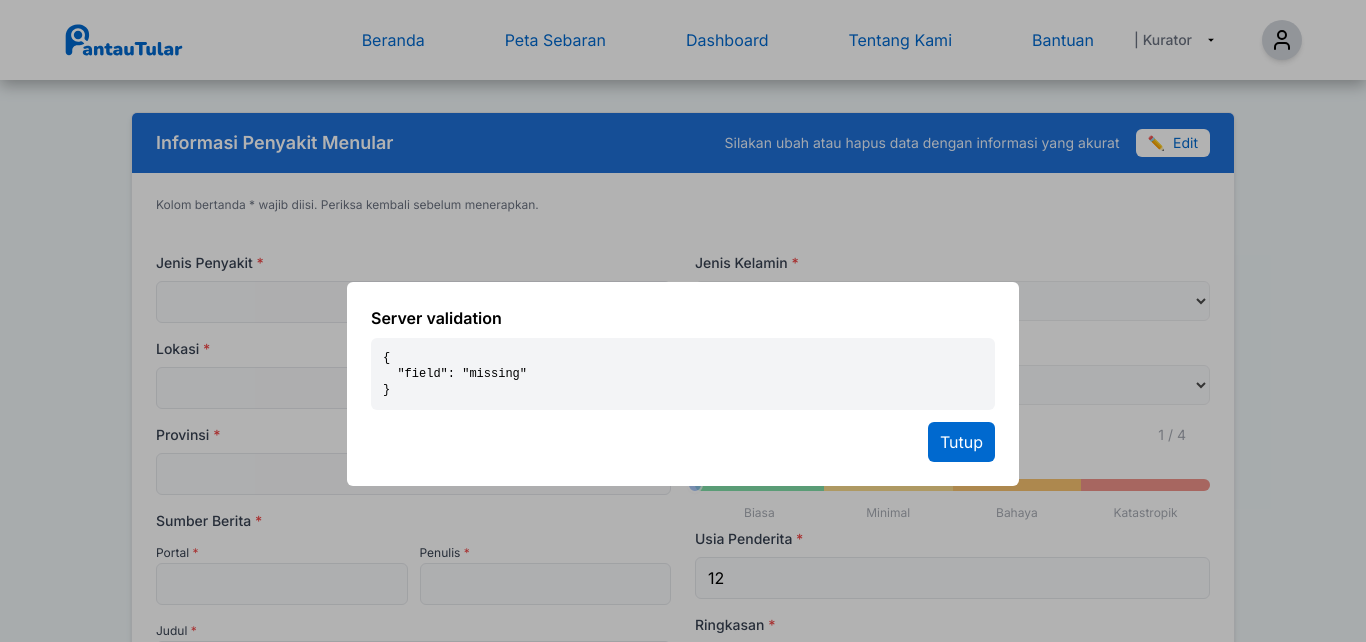
Test case: extra coverage: curator-edit-delete-data targeted timeouts and fallbacks › shows server validation raw and can close it when backend returns 400 with detail
Expected: the text "{ \"field\": \"missing\" }" is shown, 371,338 -> 995,410
# close button should clear it
Click the button "Tutup" at (961, 442), box 928,422 -> 995,462
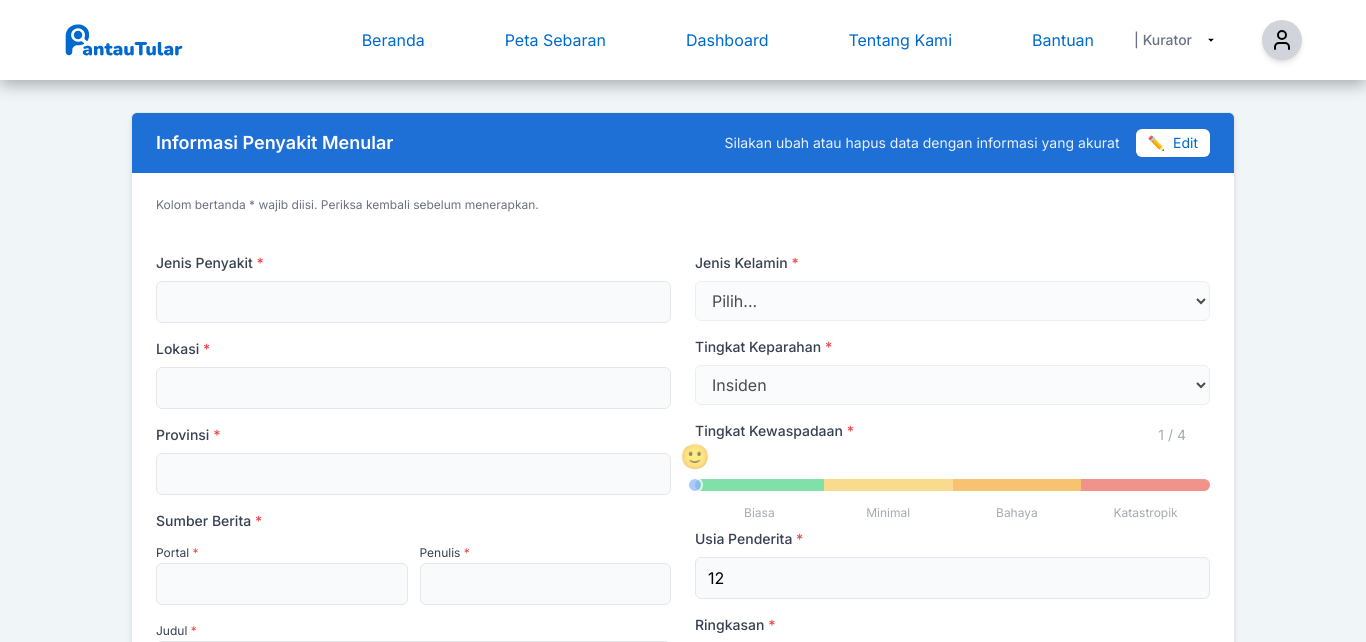
Result: the text with test id "server-validation" is gone
